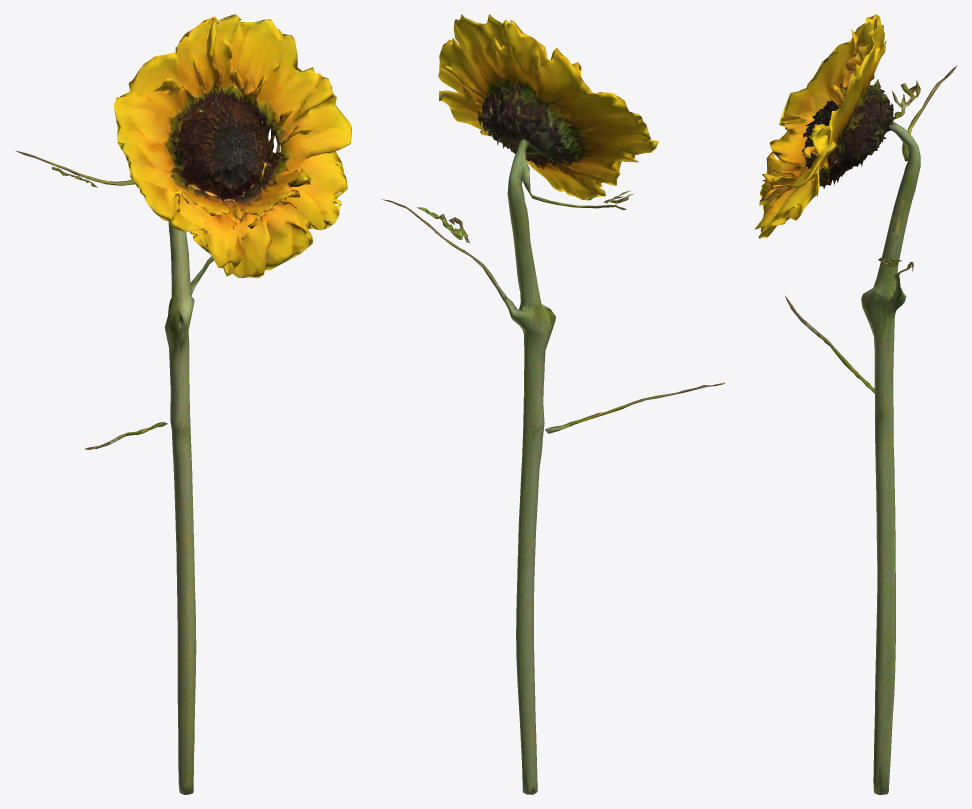
The model's file is sunflower.glb.
3 renders of one model, left to right at view 1: azimuth 30°, elevation 25°; view 2: azimuth 150°, elevation 25°; view 3: azimuth 270°, elevation 25°, orthographic. The views are drawn at different scales.
Parts seen in each view (by area): view 1: model; view 2: model; view 3: model.
Boxes of the visible parts, left/top/right/bottom form: model: left=15, top=14, right=351, bottom=794; model: left=381, top=14, right=724, bottom=794; model: left=754, top=14, right=957, bottom=794.
Bounding box in the file's own units: 0.77 × 1.99 × 0.4661.
1 material, 1 textured.
